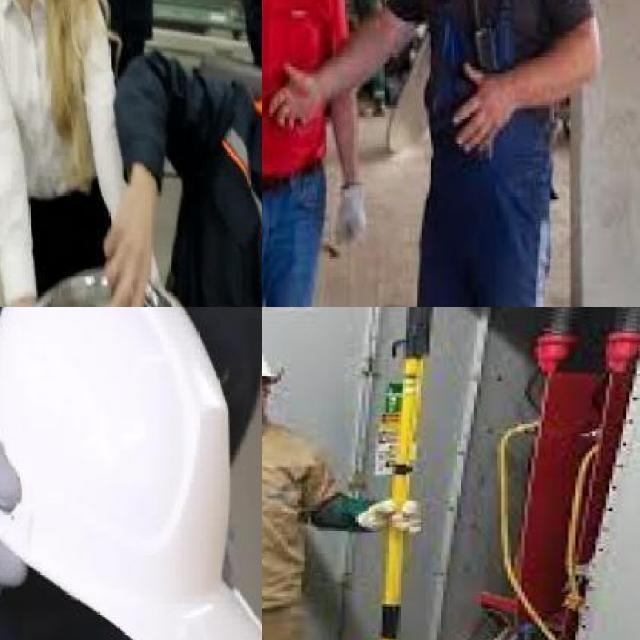apron: (359, 496, 427, 542), (333, 176, 369, 247)
